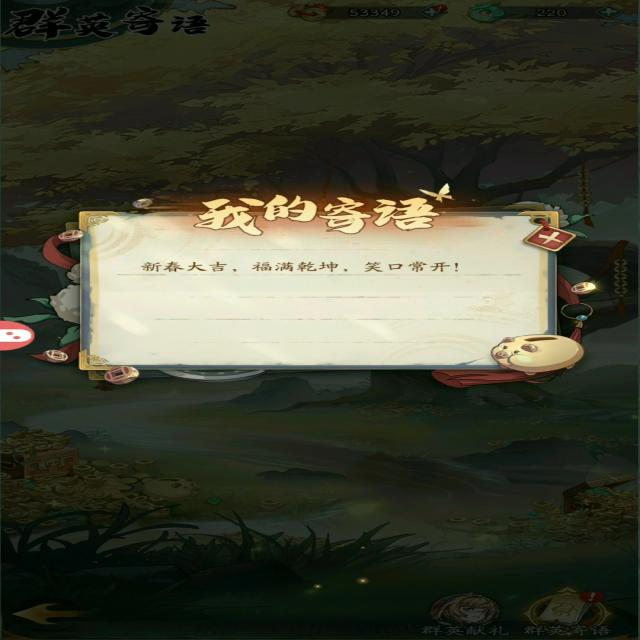operation-close: (510, 220, 580, 259)
